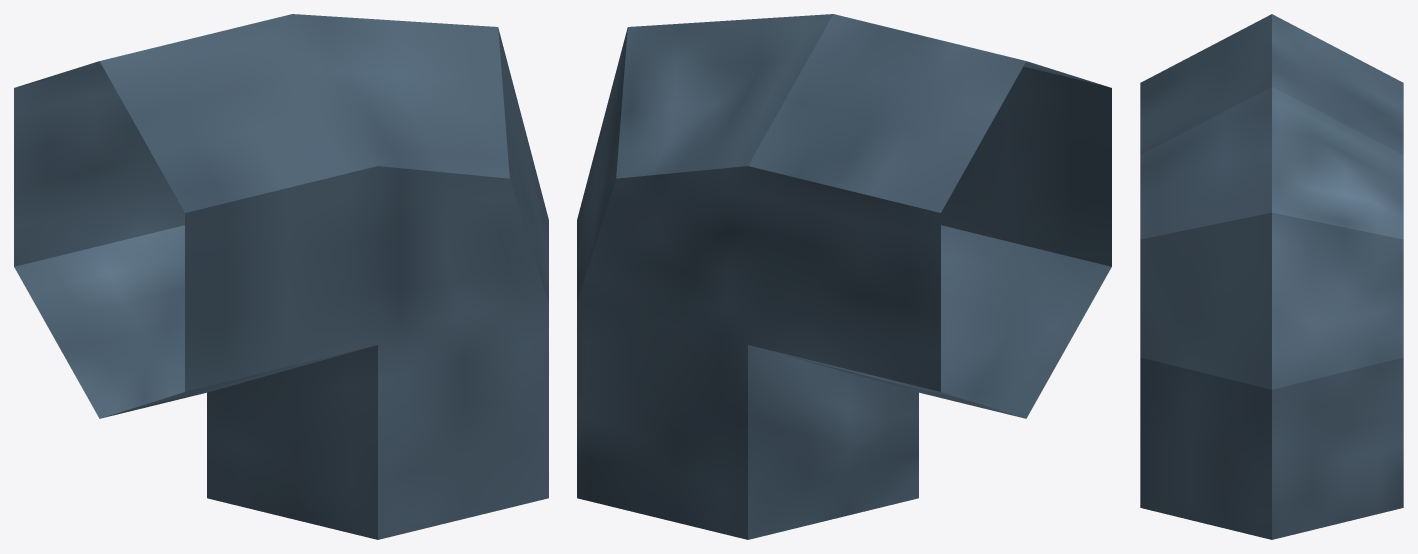
Rendered from MESH_PIPE_MEDIUM_2_002.fbx.
3 views of the same model, side by side, from view 1: azimuth 30°, elevation 25°; view 2: azimuth 150°, elevation 25°; view 3: azimuth 270°, elevation 25° (orthographic). The views are drawn at different scales.
Parts seen in each view (by area): view 1: MESH_PIPE_MEDIUM_2.002; view 2: MESH_PIPE_MEDIUM_2.002; view 3: MESH_PIPE_MEDIUM_2.002.
Boxes of the visible parts, <box> form: MESH_PIPE_MEDIUM_2.002: <box>14,14,548,539</box>; MESH_PIPE_MEDIUM_2.002: <box>577,14,1111,539</box>; MESH_PIPE_MEDIUM_2.002: <box>1140,14,1403,539</box>.
Bounding box in the file's own units: 0.3339 × 0.3291 × 0.2201.
